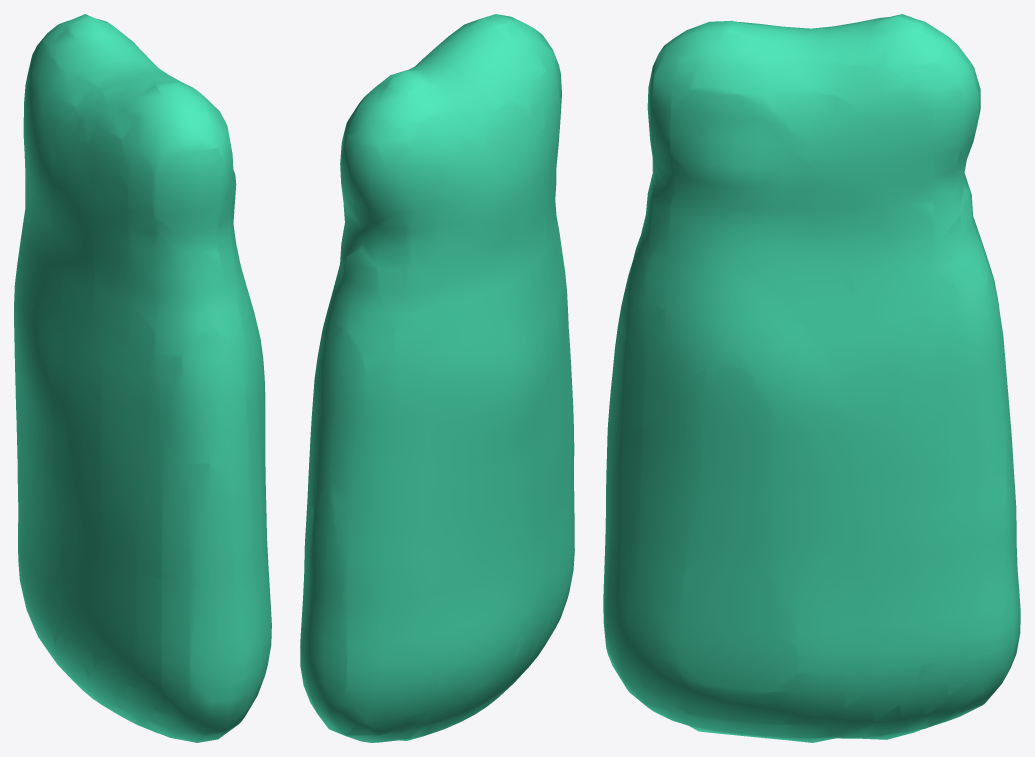
3 views of the same model, side by side, from view 1: azimuth 30°, elevation 25°; view 2: azimuth 150°, elevation 25°; view 3: azimuth 270°, elevation 25° (orthographic). The views are drawn at different scales.
Visible parts, largest first — view 1: Liquid_Domain; view 2: Liquid_Domain; view 3: Liquid_Domain.
Part boxes in pixels (bbox=[...]): Liquid_Domain: bbox=[14, 14, 271, 742]; Liquid_Domain: bbox=[300, 14, 574, 742]; Liquid_Domain: bbox=[603, 14, 1020, 742].
Bounding box in the file's own units: 1.35 × 4.6 × 2.47.
